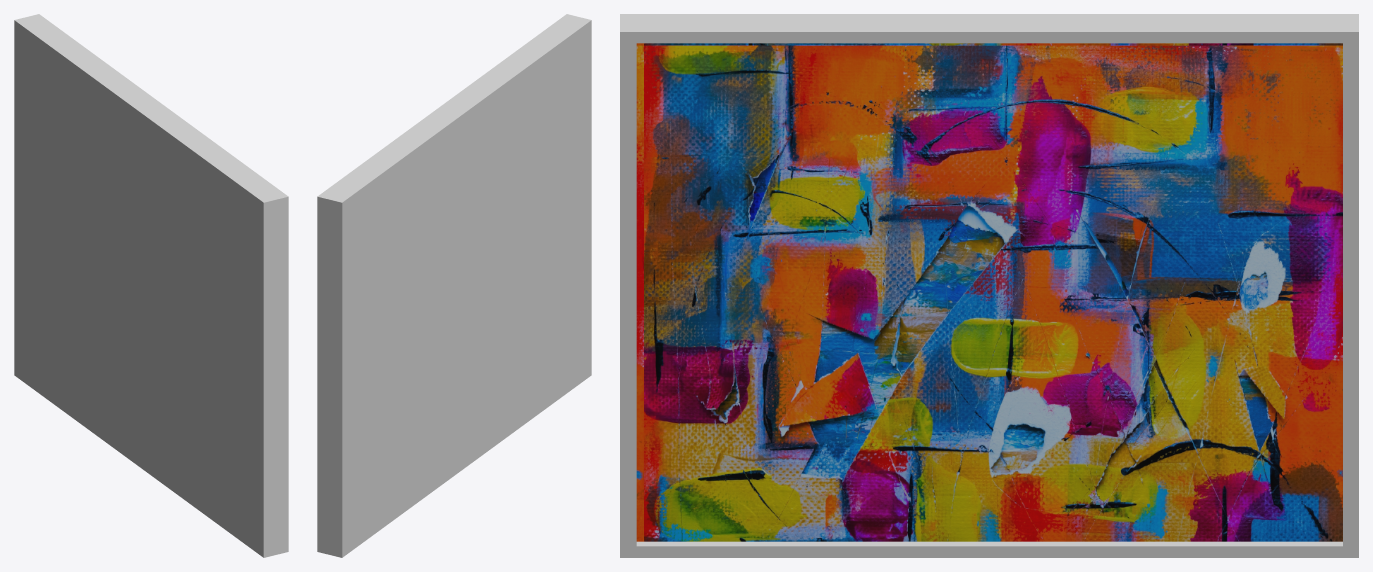
Rendered from Frame2.fbx.
3 views of the same model, side by side, from view 1: azimuth 30°, elevation 25°; view 2: azimuth 150°, elevation 25°; view 3: azimuth 270°, elevation 25° (orthographic). The views are drawn at different scales.
Parts seen in each view (by area): view 1: Think_hall_way_bed:pCube2; view 2: Think_hall_way_bed:pCube2; view 3: Think_hall_way_bed:pCube1, Think_hall_way_bed:pCube2.
Boxes of the visible parts, x1,y1,x2,y2 form: Think_hall_way_bed:pCube2: (14, 14, 288, 557); Think_hall_way_bed:pCube2: (317, 14, 591, 557); Think_hall_way_bed:pCube1: (636, 43, 1342, 541); Think_hall_way_bed:pCube2: (620, 14, 1358, 557).
Size of the model in its own units: 0.8655 by 11.79 by 15.02.
Materials: 2 (1 with a texture image).
